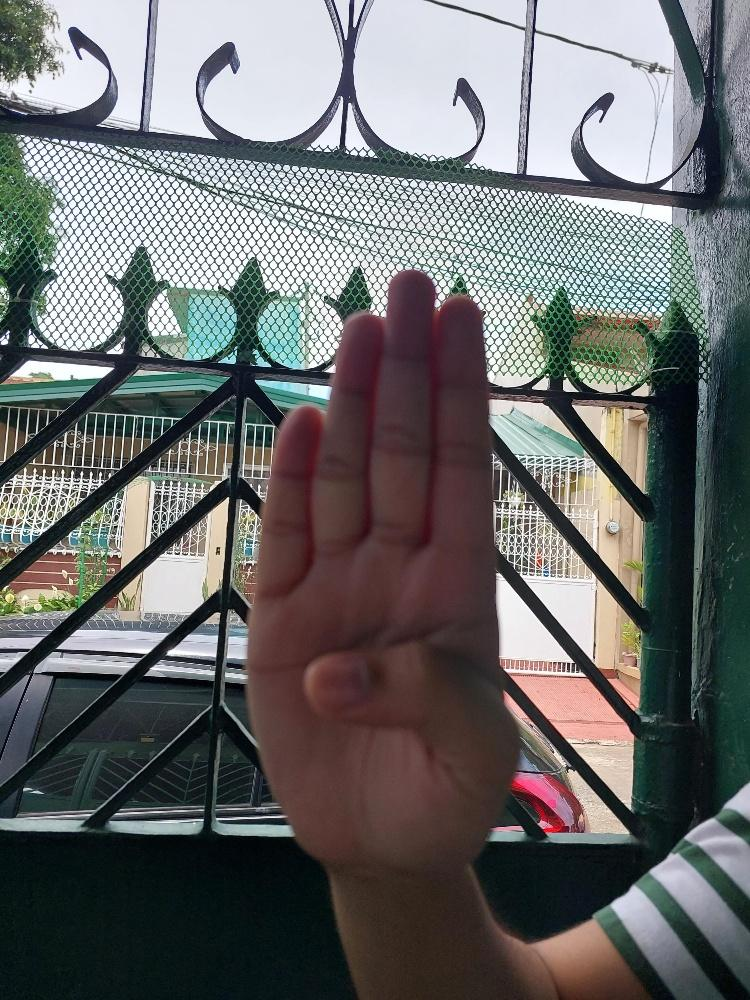b: (242, 263, 524, 880)
